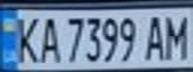3: (81, 14, 103, 63)
7: (60, 12, 84, 63)
9: (118, 12, 142, 63), (100, 14, 121, 63)
A: (33, 13, 60, 64), (142, 11, 169, 62)
K: (9, 12, 42, 64)
M: (160, 11, 193, 61)
